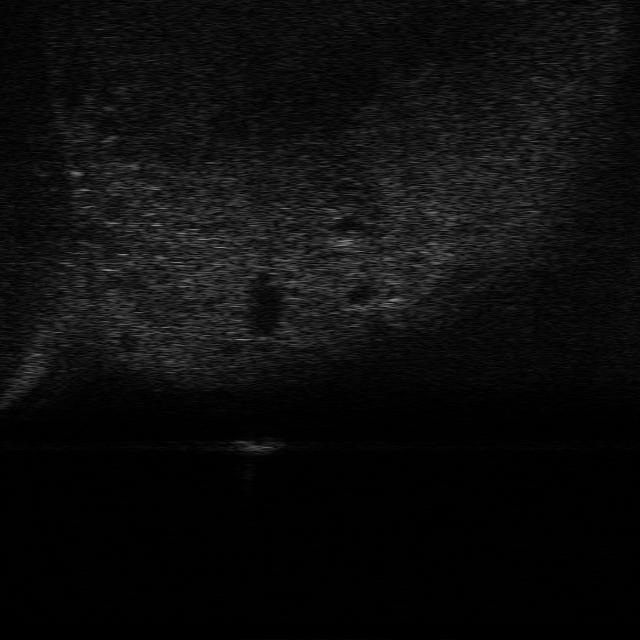cube: (232, 437, 282, 457)
